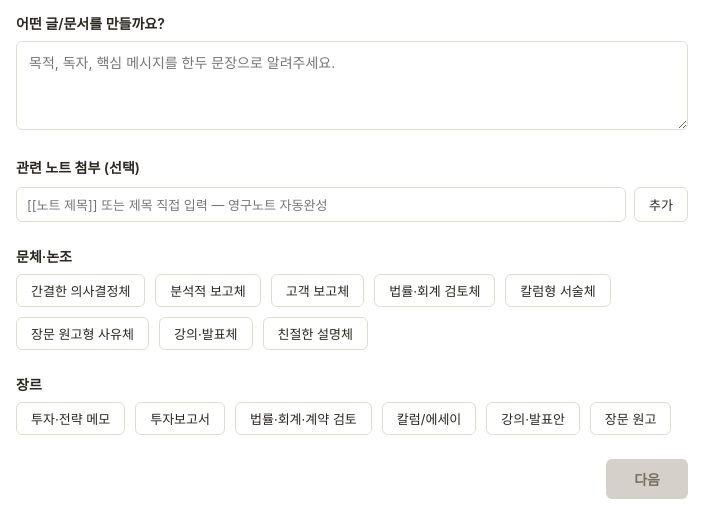
Test: Step1Seed — seed 입력 → 다음 활성화 › seed + 문체를 고르면 다음이 활성화된다
Type "쓰고 싶은 이야기" into the text box with test id "step1-seed-textarea" at (352, 86), box x1=16 y1=41 x2=688 y2=130
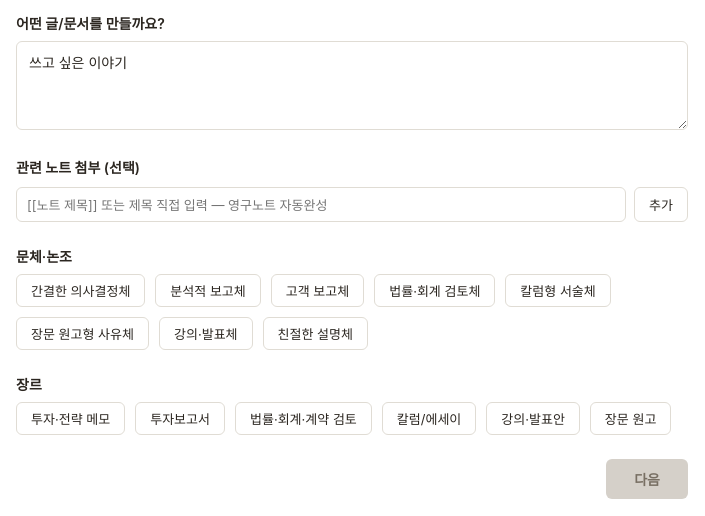
Click the radio button labelled "칼럼형 서술체" at (558, 291), box x1=505 y1=274 x2=611 y2=307
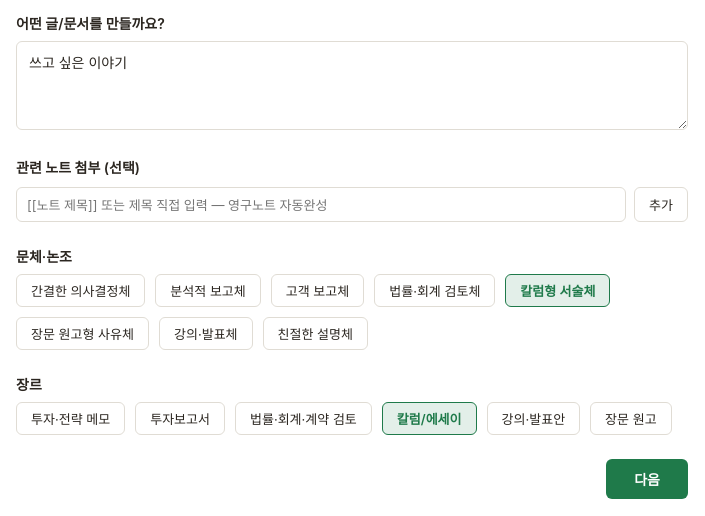
Result: the button with test id "step1-next-btn" is enabled at x1=606 y1=459 x2=688 y2=499
